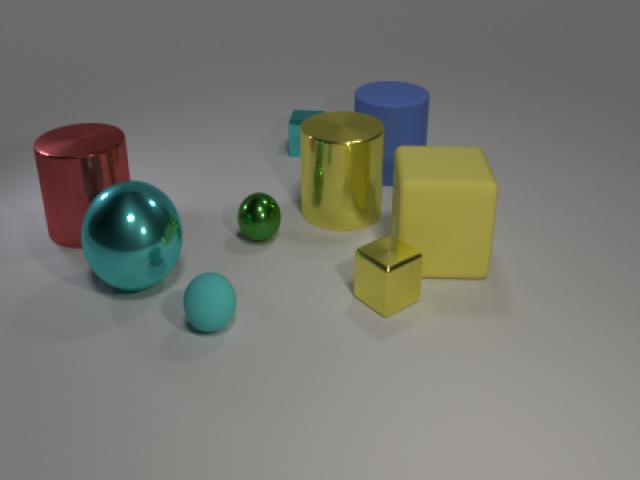cylinder: (31, 117, 137, 253), (296, 106, 386, 234), (350, 78, 432, 190)
round ball: (75, 173, 185, 298), (182, 269, 240, 339), (231, 186, 283, 245)
